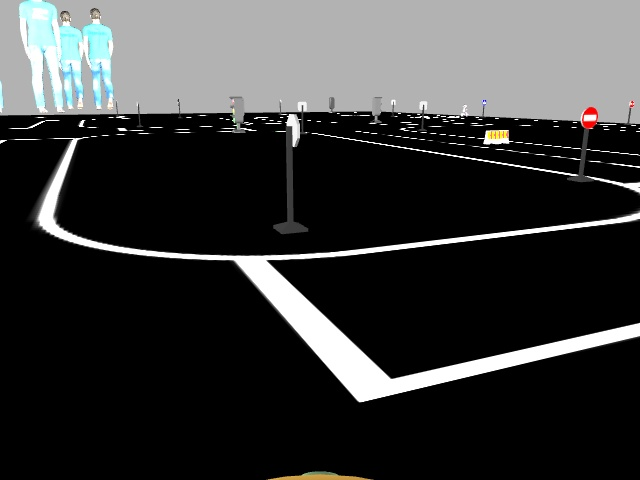NoEntry: (581, 105, 599, 128)
